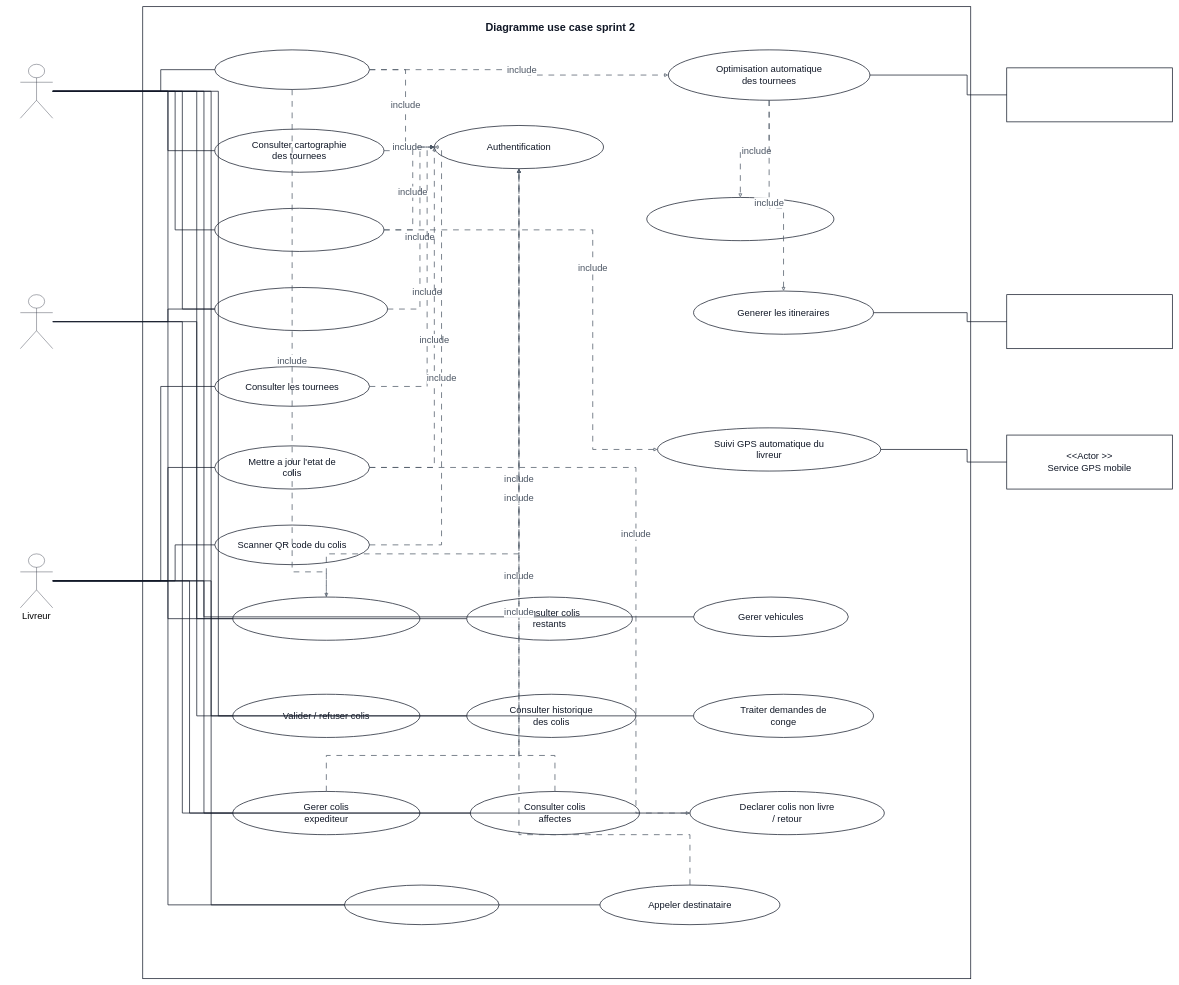
The diagram is 1179 pixels wide and 985 high, and some of its shapes have lost their labels. The shapes that lost their labels are listed below. From the top down, each one's centre as x and y in pixels, then its label:
the point at 292,69: Gerer tournees
the point at 36,91: Administrateur
the point at 1089,94: <<Actor >> Systeme Tournee
the point at 299,230: Afficher tracking GPS du livreur
the point at 740,219: Calculer le meilleur ordre de livraison
the point at 36,321: Expediteur
the point at 301,309: Consulter historique des tournees
the point at 1089,321: <<Actor >> Service de cartographie
the point at 326,618: Valider / refuser tournees IA
the point at 421,905: Demander conge
